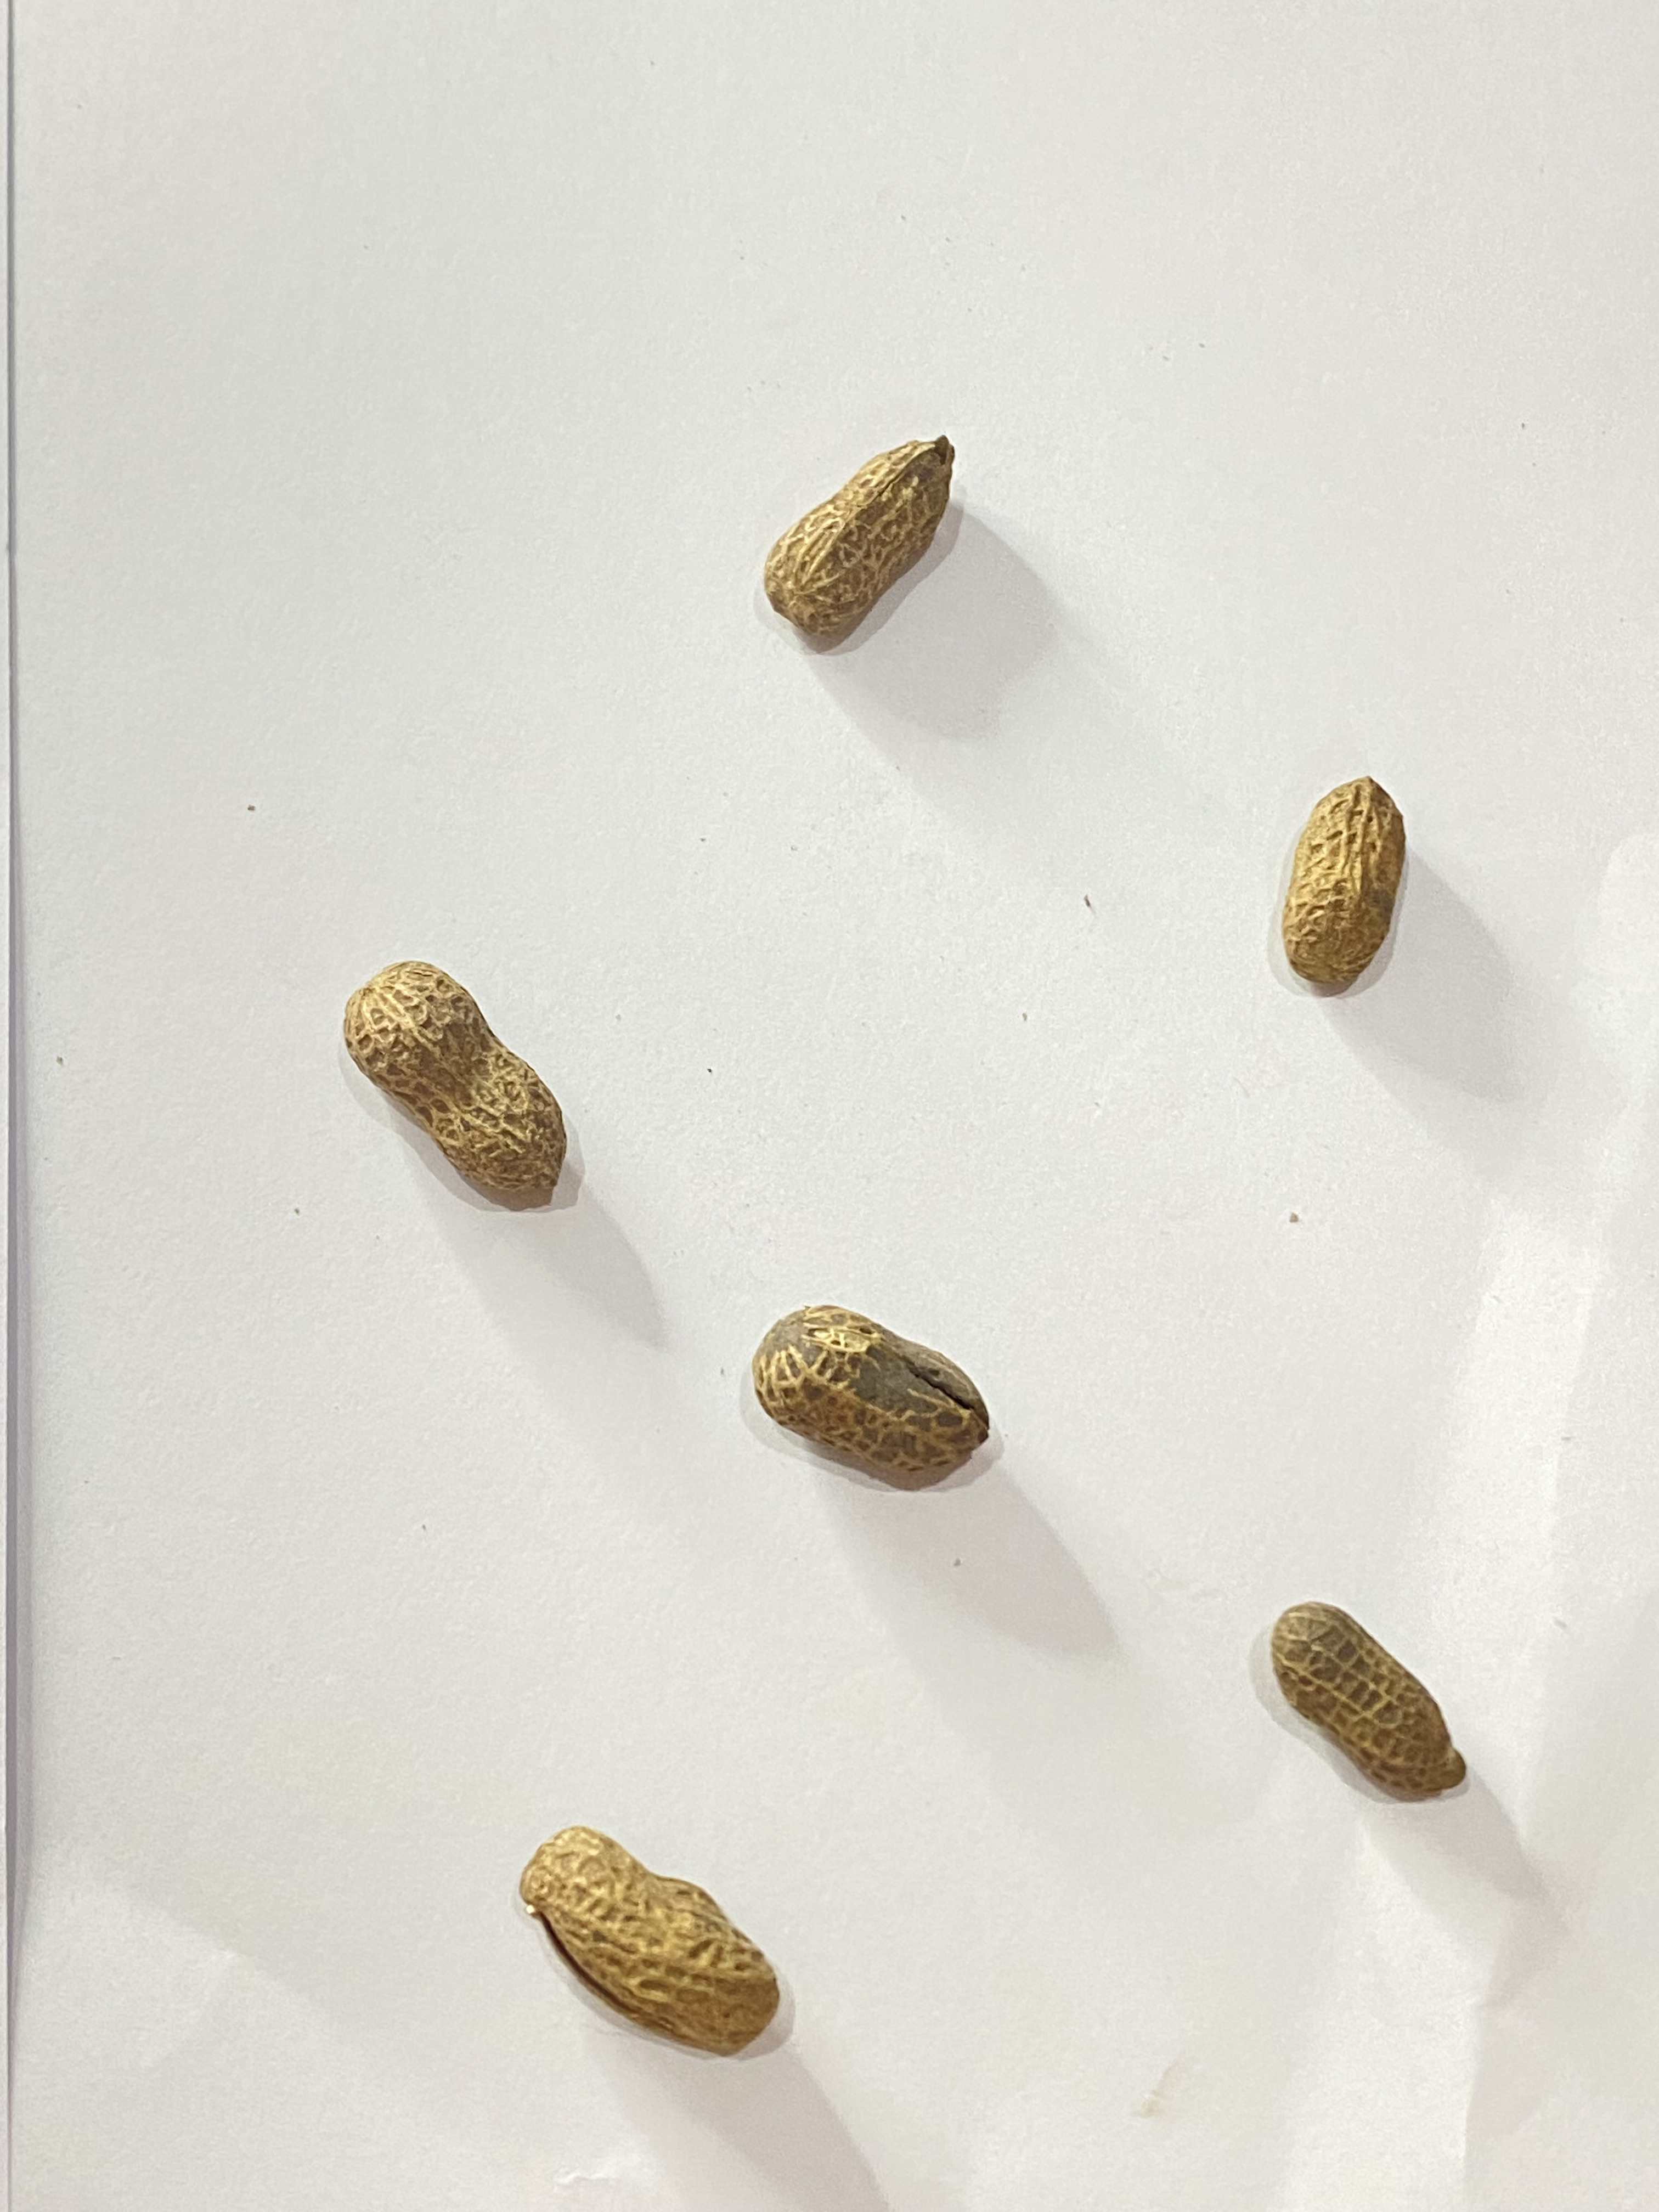kacang1: (730, 1268, 1019, 1501)
kacang2: (244, 932, 643, 1223), (751, 383, 976, 643), (1253, 1587, 1485, 1818), (1274, 756, 1420, 1031)
kacang3: (462, 1811, 817, 2071)
